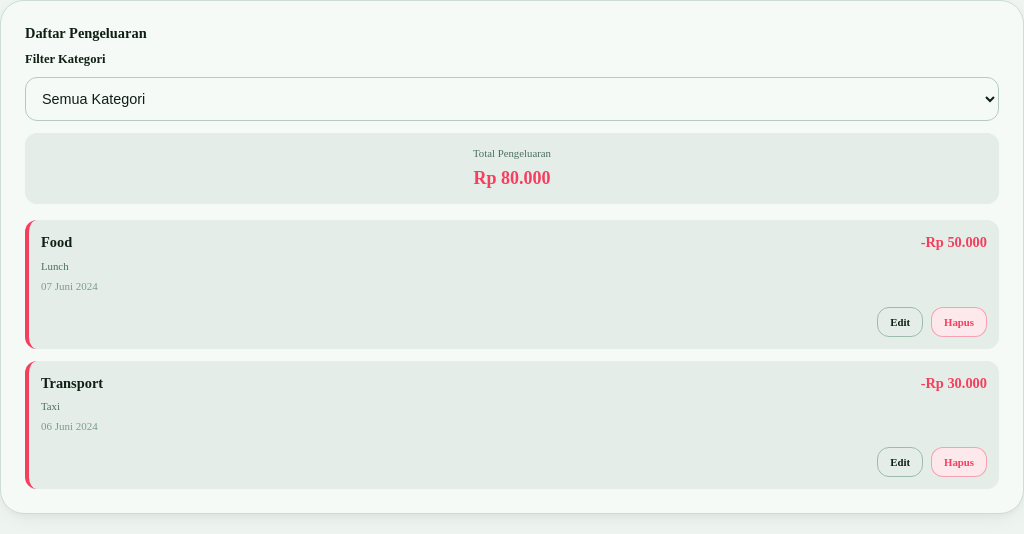
TransactionList › should filter transactions by category
Select "Food" in the dropdown at [512, 99], box [25,77,999,121]
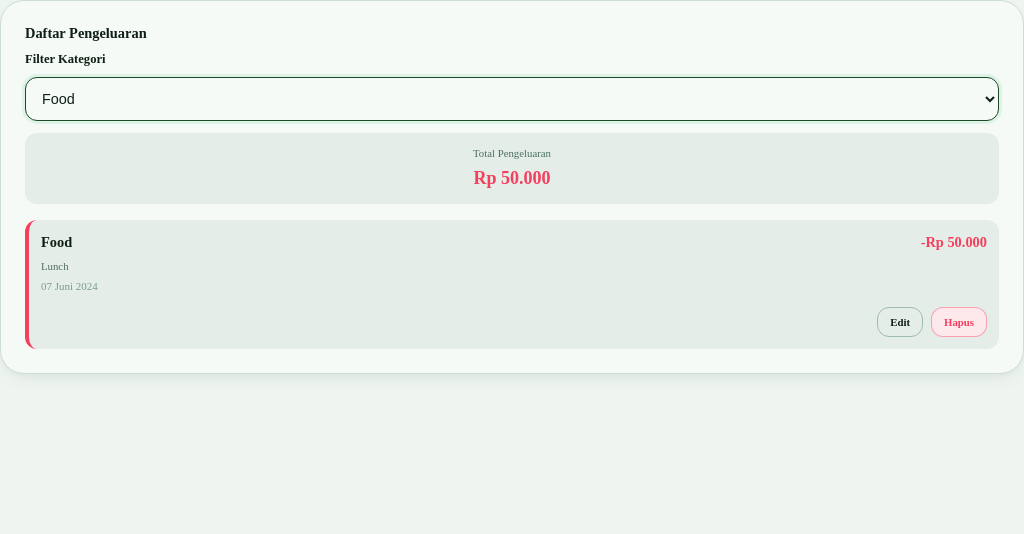
Expected: the text "Lunch" is shown, [41,260,68,272]
Result: the text "Taxi" is gone
